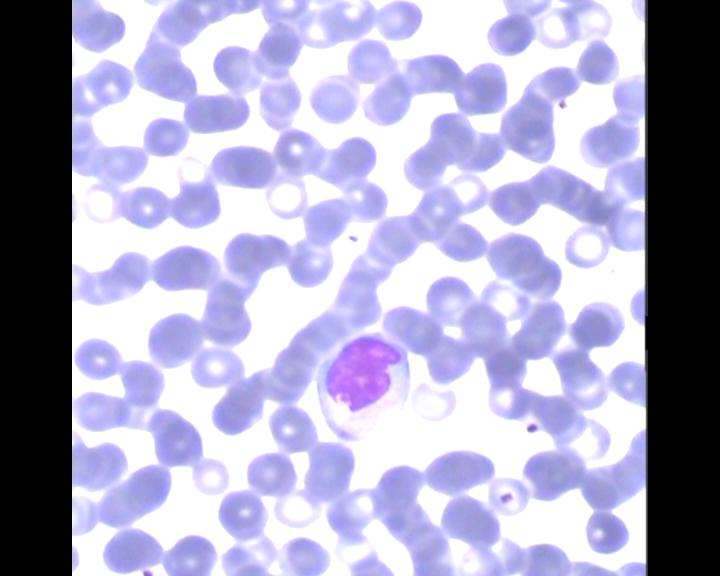mono: (314, 331, 411, 440)
